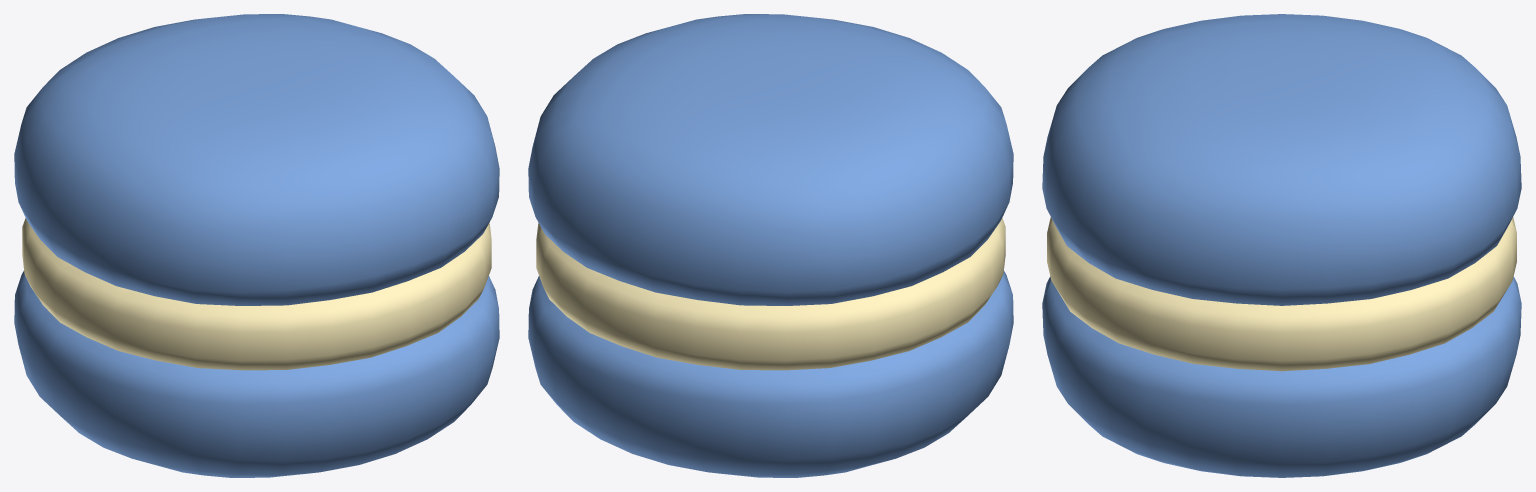
The model's file is Macaroon_01.fbx.
3 renders of one model, left to right at view 1: azimuth 30°, elevation 25°; view 2: azimuth 150°, elevation 25°; view 3: azimuth 270°, elevation 25°, orthographic.
Visible parts, largest first — view 1: Macaroon_01_LOD0; view 2: Macaroon_01_LOD0; view 3: Macaroon_01_LOD0.
Boxes of the visible parts, x1=… form: Macaroon_01_LOD0: x1=14, y1=14, x2=499, y2=477; Macaroon_01_LOD0: x1=528, y1=14, x2=1013, y2=477; Macaroon_01_LOD0: x1=1042, y1=14, x2=1521, y2=477.
Size of what is drawn, in the model's own units: 348 by 276 by 348.
